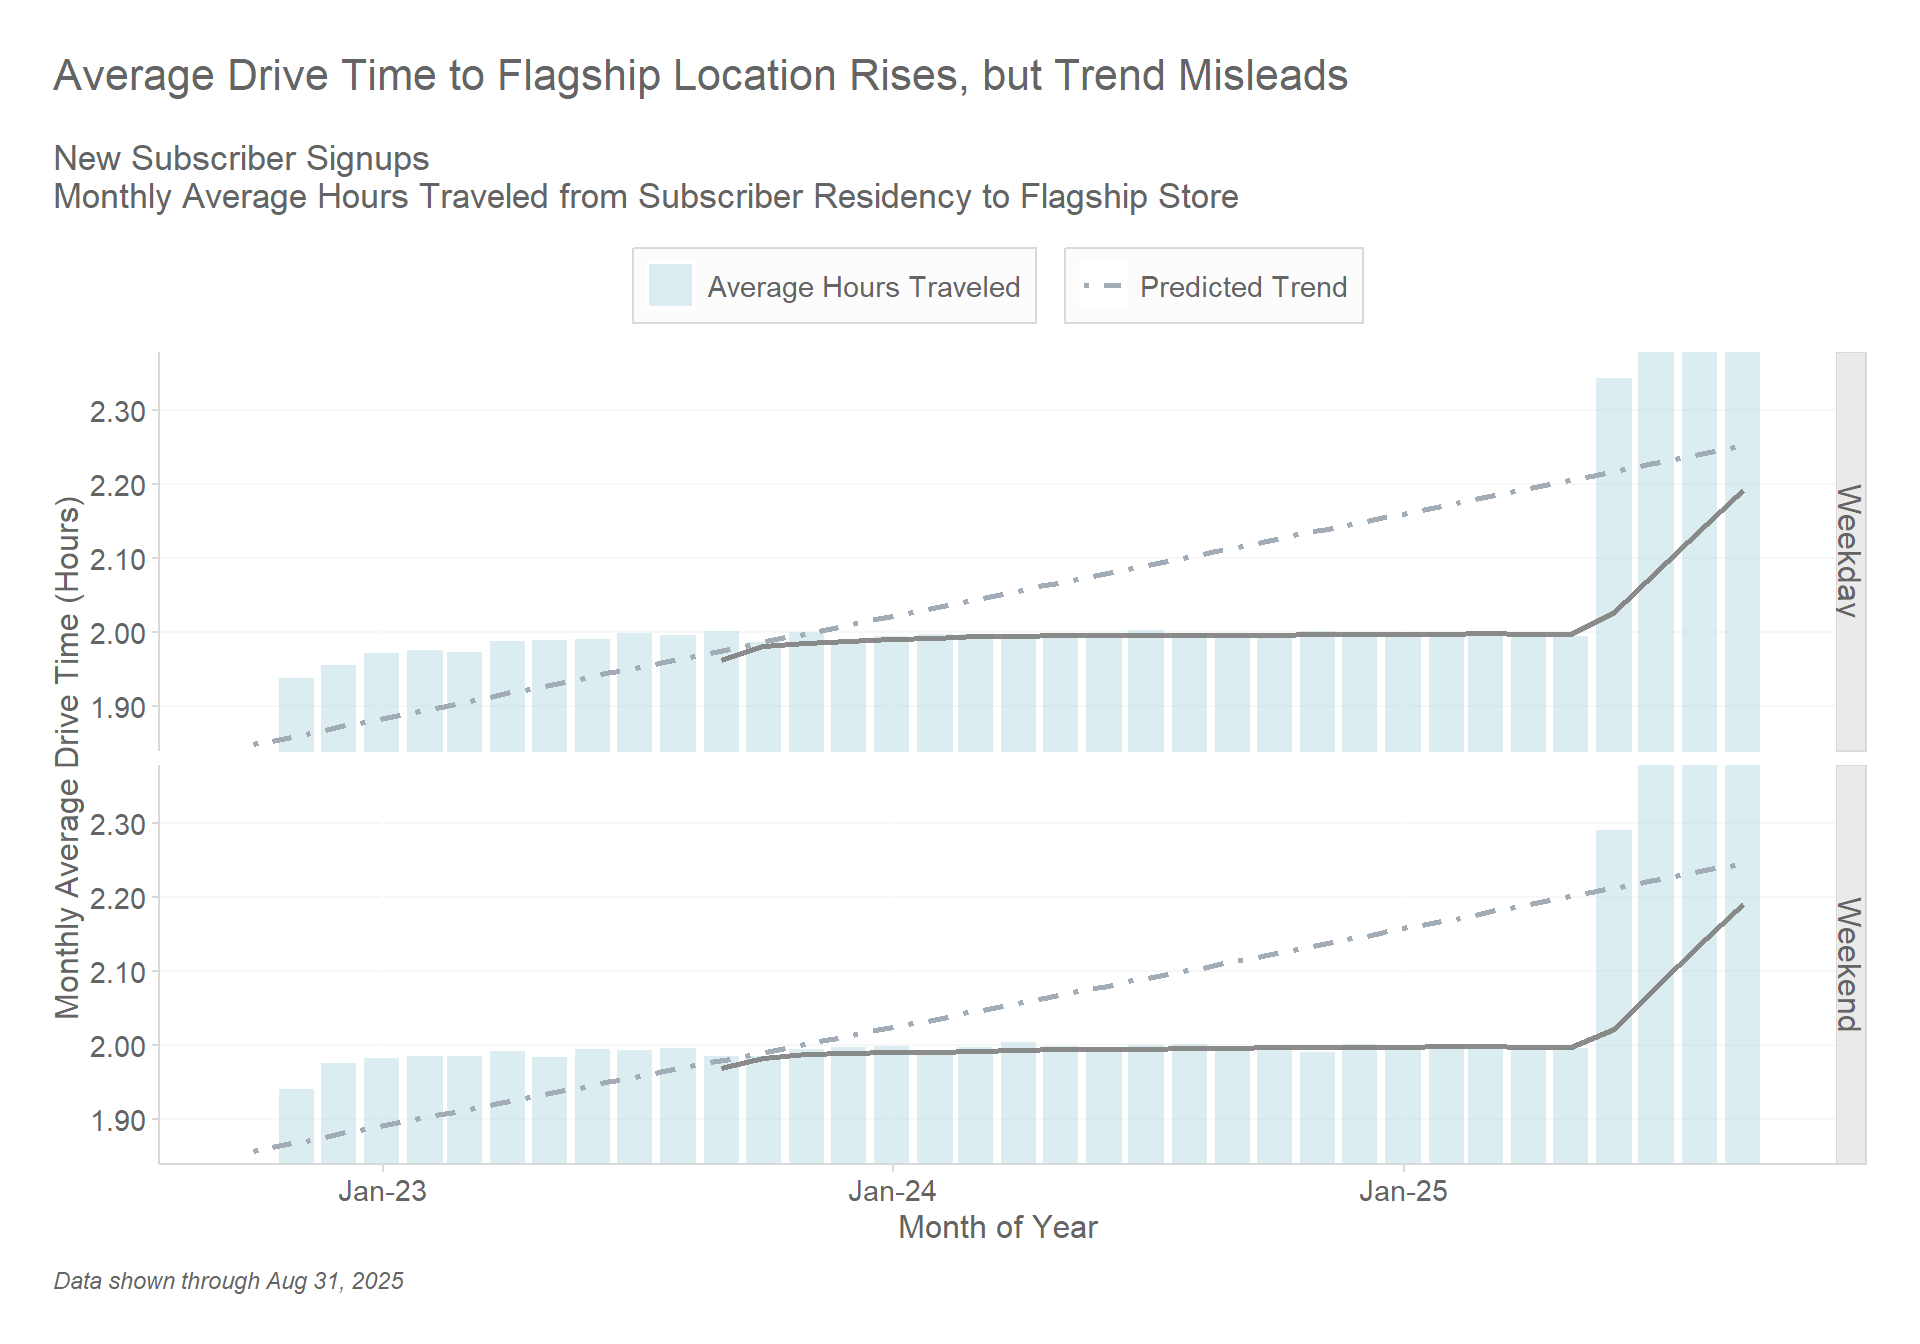

The page's visual inventory and layout, read from the dashboard file:
{"tool":"tableau","page":{"name":"Dashboard TS","canvas":[1016,964],"ordinal":1},"visuals":[{"type":"blank","box":[8,8,162.6,38.7]},{"type":"worksheet","title":"Time Series","mark":"Bar","rows":["calculation","value","value"],"cols":["MONTH_END"],"box":[170.6,8,837.4,948]},{"type":"filter","title":"Time Series","param":"[federated.1atp5sv15v3jza1d6jdue160i6nr].[none:metric:nk]","box":[8,46.7,162.6,274.3]},{"type":"filter","title":"Time Series","param":"[federated.1atp5sv15v3jza1d6jdue160i6nr].[none:SOURCE_PROP_GROUP:nk]","box":[8,321,162.6,105]},{"type":"legend","title":"Time Series","param":"[federated.1atp5sv15v3jza1d6jdue160i6nr].[usr:Calculation_1957940001497505793:nk","box":[8,426,162.6,530]}]}

Visuals, with their boxes on the page's 1016x964 design canvas (x1, y1, x2, y2). These are canvas units, not pixel positions in the 1920x1344 screenshot, which may show the page scaled, cropped or inside an application window:
blank: 8/8/171/47
"Time Series" worksheet (Bar marks): 171/8/1008/956
"Time Series" filter: 8/47/171/321
"Time Series" filter: 8/321/171/426
"Time Series" legend: 8/426/171/956
